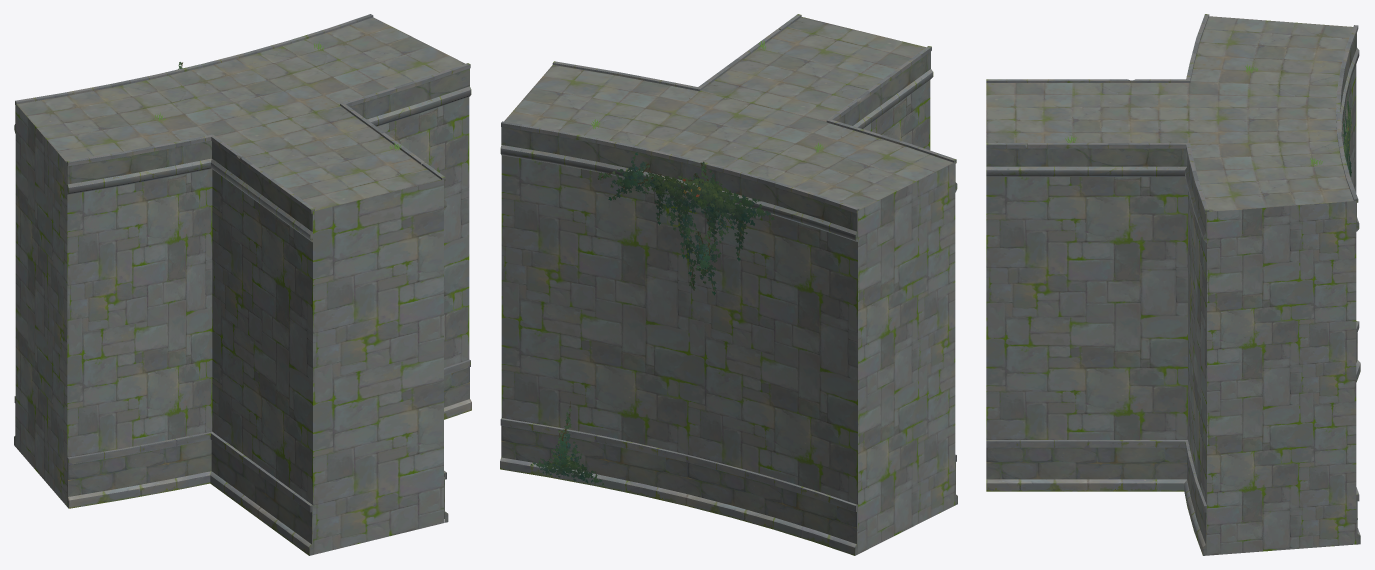
File: Area_MdBuild_SdWall02_27_Group.fbx
3 renders of one model, left to right at view 1: azimuth 30°, elevation 25°; view 2: azimuth 150°, elevation 25°; view 3: azimuth 270°, elevation 25°, orthographic.
Parts seen in each view (by area): view 1: Area_MdBuild_SdWall02_27_Lod0; view 2: Area_MdBuild_SdWall02_27_Lod0, Stages_LYLvy02_Vo (1), Stages_LYLvy07_Vo (1), Stages_LYLvy09_Vo (1), Stages_LYLvy09_Vo (3); view 3: Area_MdBuild_SdWall02_27_Lod0.
Part boxes in pixels (x1=…): Area_MdBuild_SdWall02_27_Lod0: x1=14, y1=14, x2=471, y2=555; Area_MdBuild_SdWall02_27_Lod0: x1=500, y1=14, x2=957, y2=555; Stages_LYLvy02_Vo (1): x1=644, y1=172, x2=774, y2=276; Stages_LYLvy07_Vo (1): x1=530, y1=401, x2=603, y2=485; Stages_LYLvy09_Vo (1): x1=598, y1=152, x2=662, y2=200; Stages_LYLvy09_Vo (3): x1=685, y1=226, x2=721, y2=295; Area_MdBuild_SdWall02_27_Lod0: x1=986, y1=14, x2=1360, y2=555.
Size of the model in its own units: 24.56 by 20.83 by 19.76.
Materials: 6 (6 with a texture image).
